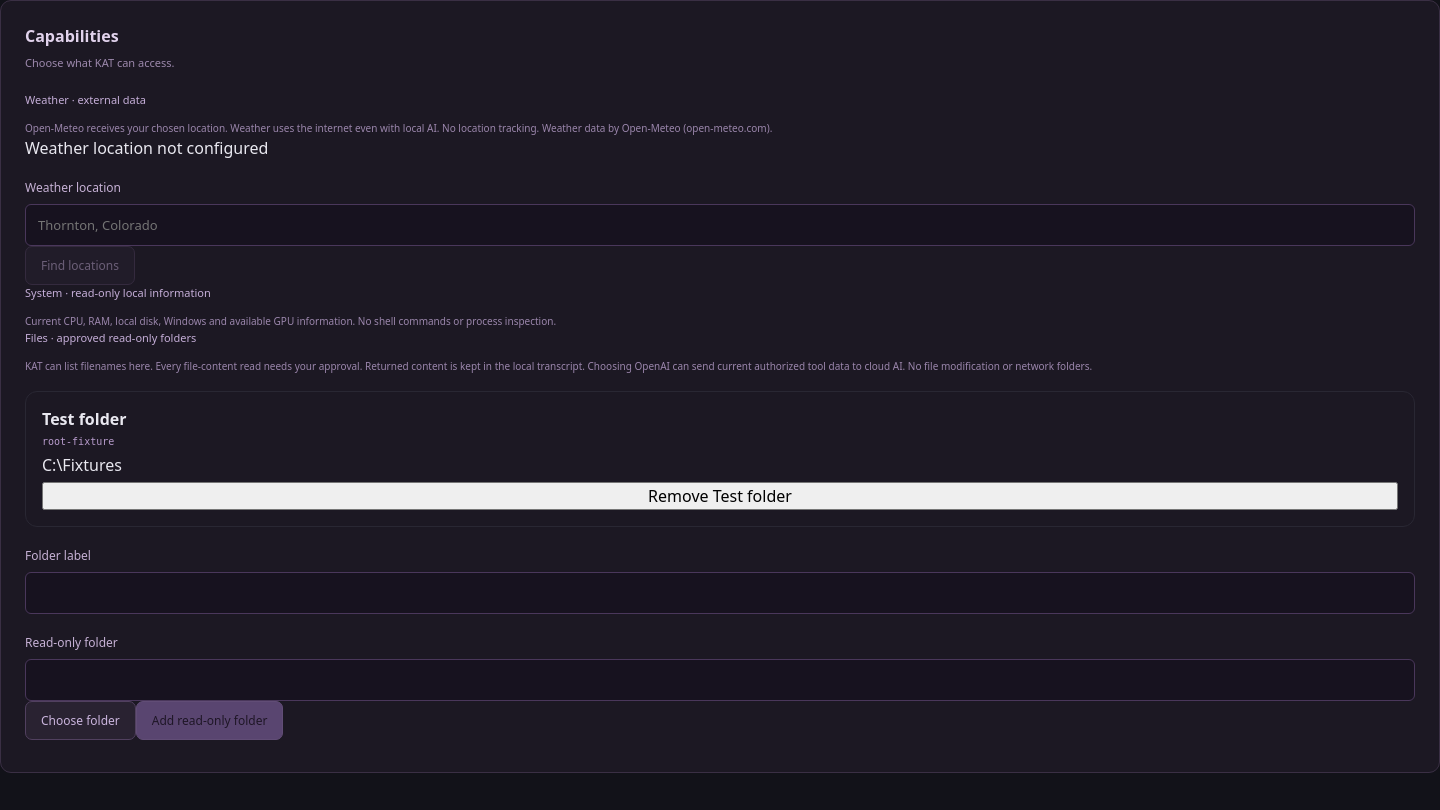
Test: removal is explicit and refreshes the approved root list
Click the button "Remove Test folder".
click(720, 496)  # box [42,482,1398,510]
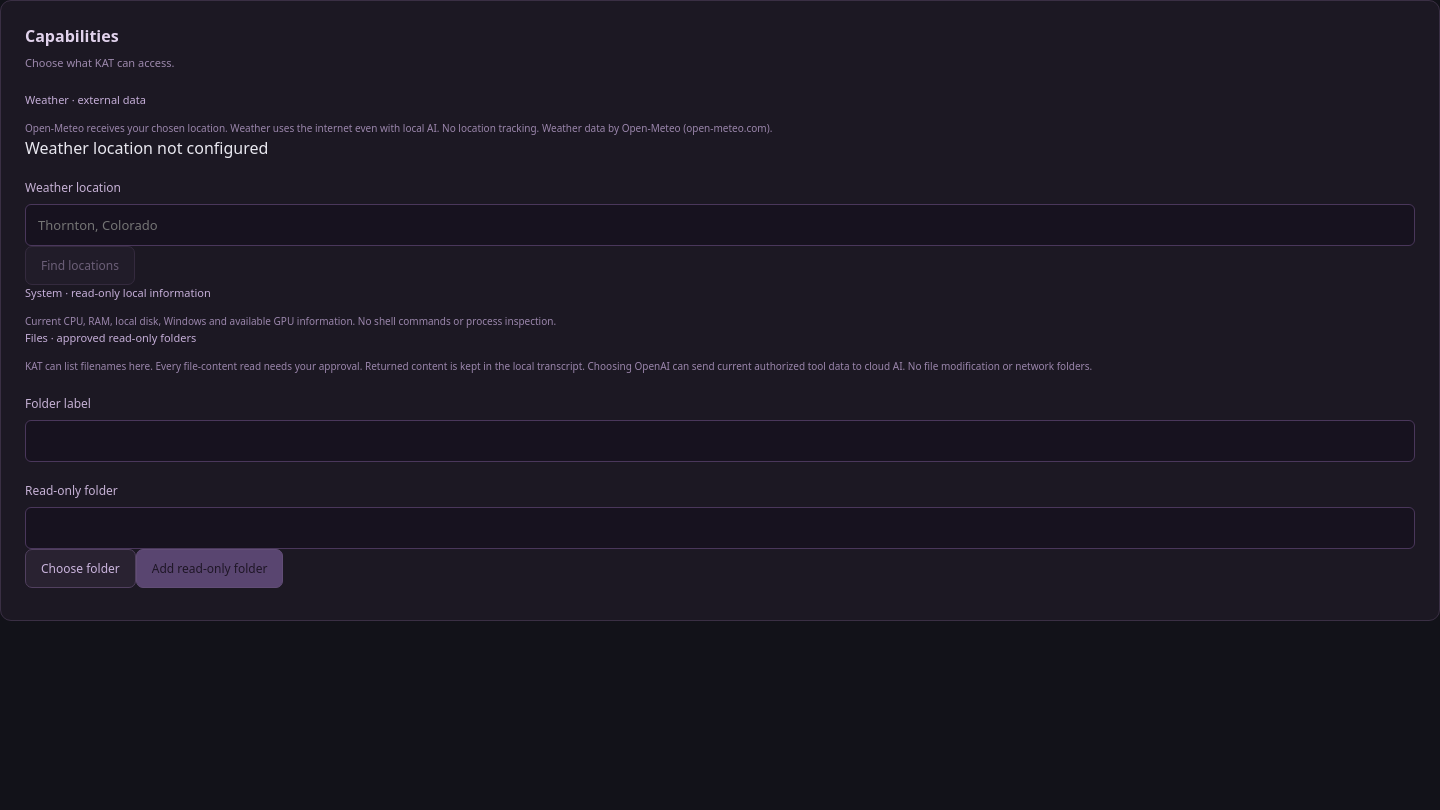
Expected: the button "Remove Test folder" is gone
